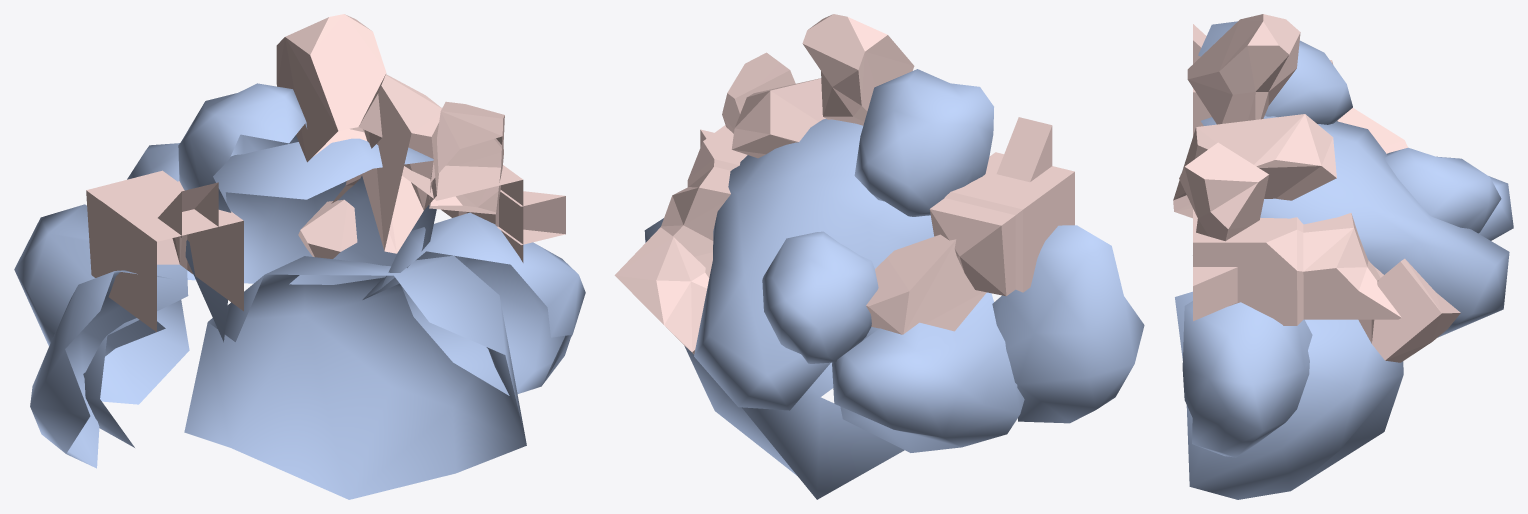
3 views of the same model, side by side, from view 1: azimuth 30°, elevation 25°; view 2: azimuth 150°, elevation 25°; view 3: azimuth 270°, elevation 25° (orthographic). The views are drawn at different scales.
Parts seen in each view (by area): view 1: Object53; view 2: Object53; view 3: Object53.
Boxes of the visible parts, x1,y1,x2,y2 form: Object53: (14,14,585,499); Object53: (614,14,1144,499); Object53: (1173,14,1513,499).
Size of the model in its own units: 86067 by 75844 by 50743.
